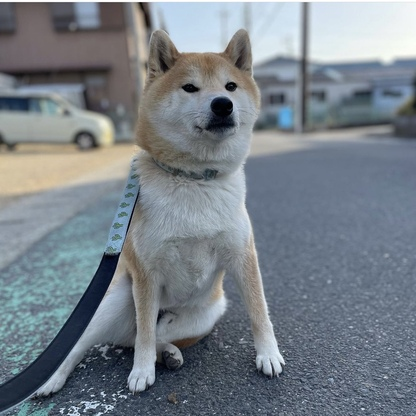shiba: (28, 22, 291, 406)
